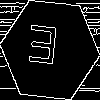E: (25, 25, 60, 74)
